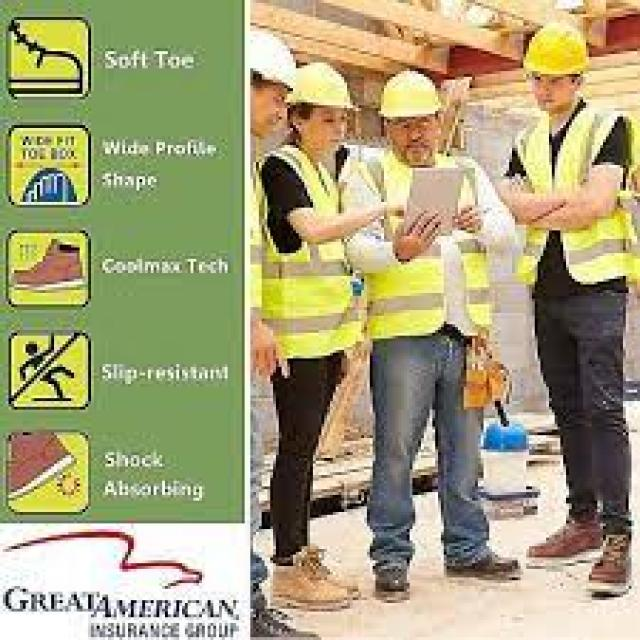shoes: (268, 556, 356, 612), (585, 531, 633, 603), (526, 522, 601, 568), (443, 553, 530, 590), (371, 557, 417, 603)
